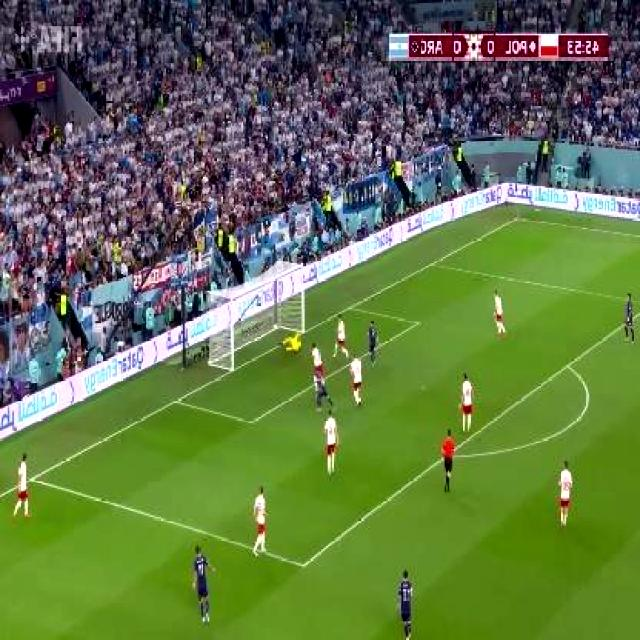bigarea_bottom_inner: (295, 551, 314, 577)
bigarea_bottom_outter: (26, 469, 40, 489)
bigarea_top_outter: (426, 255, 440, 271)
corner: (511, 211, 526, 223)
smallarea_bottom_inner: (243, 408, 262, 434)
smallarea_bottom_outter: (169, 389, 186, 409)
smallarea_top_inner: (412, 312, 428, 331)
smallarea_top_outter: (343, 298, 359, 316)
top_arc_area_intersection: (561, 355, 577, 374)
